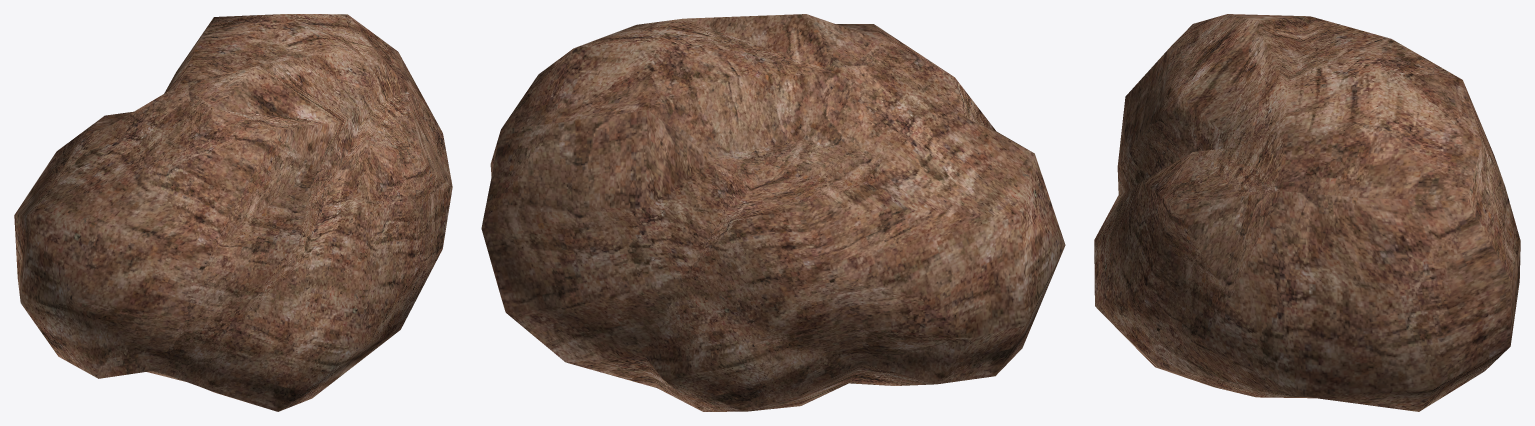
File: rock_dath_desertboulder_a2_l1.fbx
3 views of the same model, side by side, from view 1: azimuth 30°, elevation 25°; view 2: azimuth 150°, elevation 25°; view 3: azimuth 270°, elevation 25° (orthographic). The views are drawn at different scales.
Parts seen in each view (by area): view 1: mesh_node; view 2: mesh_node; view 3: mesh_node.
Boxes of the visible parts, x1=… form: mesh_node: x1=14, y1=14, x2=452, y2=411; mesh_node: x1=481, y1=14, x2=1065, y2=411; mesh_node: x1=1094, y1=14, x2=1520, y2=411.
Size of the model in its own units: 1.83 by 1.23 by 1.4.
